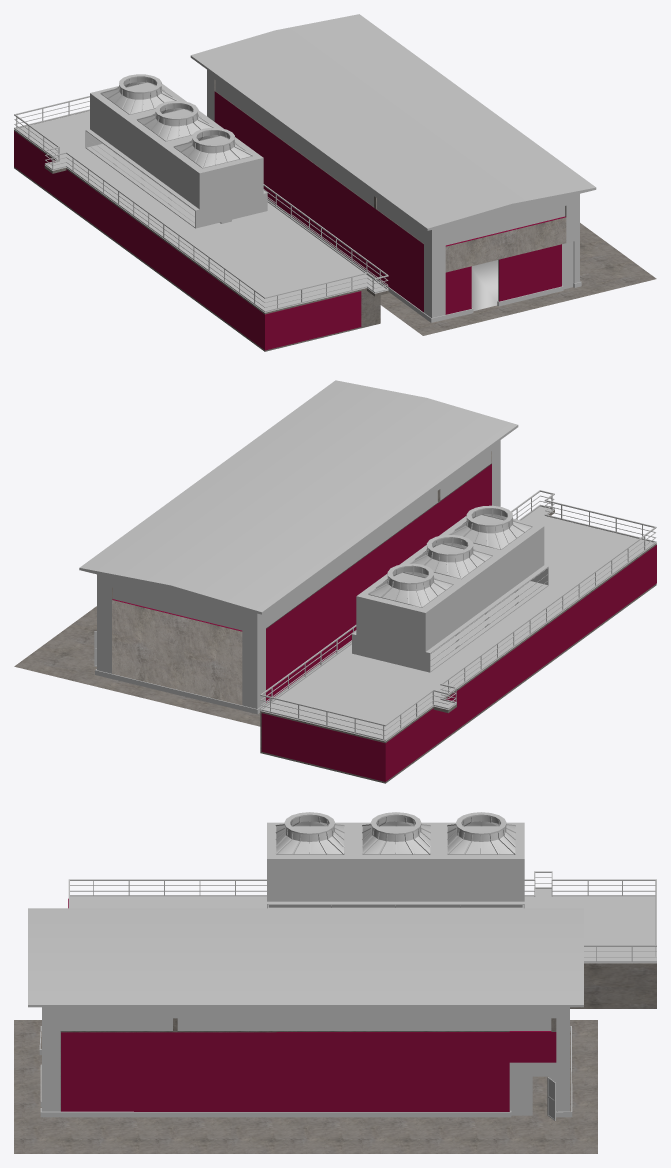
File: 120_water treatment_outer.DAE
3 views of the same model, one above another, from view 1: azimuth 30°, elevation 25°; view 2: azimuth 150°, elevation 25°; view 3: azimuth 270°, elevation 25° (orthographic). The views are drawn at different scales.
Visible parts, largest first — view 1: W002_Roof, W012_, W013-ch001, W015_fan, W001-ch007, W009_, W003_, W001_Wall, W001-ch002, W026-ins1, W013_, W017_Cooling_Tower_120CT01__Cooling_Tower_120CT02__Cooling_T (+9 smaller); view 2: W002_Roof, W012_, W013-ch001, W015_fan, W001-ch007, W001_Wall, W003_, W009_, W026-ins1, W017-ins2, W013_, W017_Cooling_Tower_120CT01__Cooling_Tower_120CT02__Cooling_T (+5 smaller); view 3: W002_Roof, W001-ch004, W009_, W015_fan, W003_, W012_, W026, W013_, W008_1, W017-ins1, W017-ins2, W017_Cooling_Tower_120CT01__Cooling_Tower_120CT02__Cooling_T (+3 smaller).
Boxes of the visible parts, x1,y1,x2,y2 form: W002_Roof: [190, 14, 596, 230]; W012_: [14, 111, 388, 312]; W013-ch001: [14, 131, 361, 350]; W015_fan: [85, 82, 267, 228]; W001-ch007: [214, 91, 423, 312]; W009_: [380, 223, 656, 335]; W003_: [207, 70, 579, 317]; W001_Wall: [214, 80, 566, 301]; W001-ch002: [499, 244, 561, 301]; W026-ins1: [215, 80, 423, 243]; W013_: [14, 129, 388, 351]; W017_Cooling_Tower_120CT01__Cooling_Tower_120CT02__Cooling_T: [173, 127, 252, 168]; W002_Roof: [79, 380, 518, 614]; W012_: [261, 506, 655, 741]; W013-ch001: [281, 545, 656, 781]; W015_fan: [352, 515, 548, 672]; W001-ch007: [266, 464, 491, 702]; W001_Wall: [112, 451, 491, 705]; W003_: [97, 440, 500, 708]; W009_: [14, 606, 260, 726]; W026-ins1: [266, 452, 491, 627]; W017-ins2: [368, 563, 453, 607]; W013_: [260, 510, 656, 783]; W017_Cooling_Tower_120CT01__Cooling_Tower_120CT02__Cooling_T: [448, 505, 532, 549]; W002_Roof: [28, 908, 583, 1007]; W001-ch004: [61, 1032, 509, 1111]; W009_: [14, 1020, 597, 1153]; W015_fan: [267, 822, 524, 908]; W003_: [42, 1007, 569, 1111]; W012_: [70, 889, 656, 963]; W026: [60, 1018, 551, 1030]; W013_: [570, 963, 656, 1008]; W008_1: [39, 1026, 572, 1117]; W017-ins1: [362, 812, 430, 854]; W017-ins2: [447, 812, 515, 854]; W017_Cooling_Tower_120CT01__Cooling_Tower_120CT02__Cooling_T: [275, 812, 344, 854].
Size of what is drawn, in the model's own units: 277 by 344 by 88.29.
